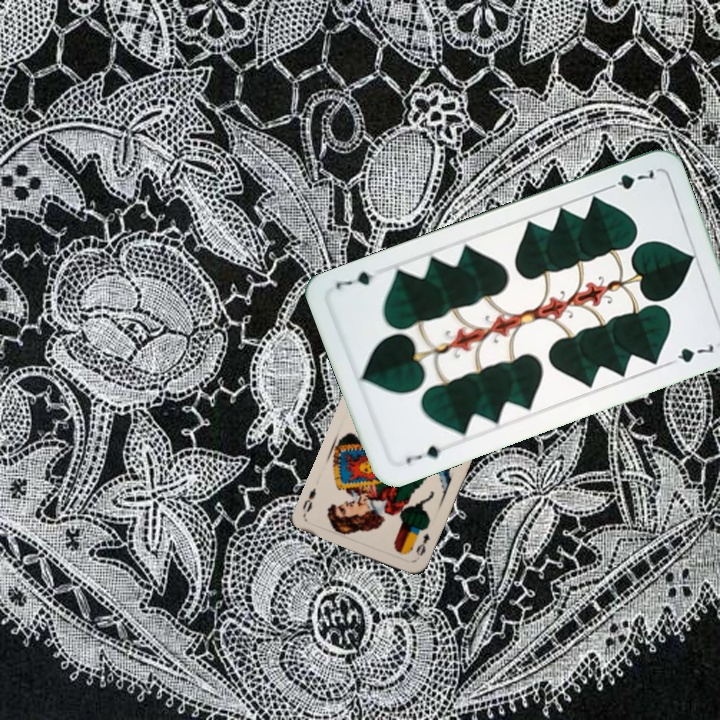EO: (411, 529, 432, 562)
G7: (601, 162, 657, 193), (402, 441, 444, 467)
